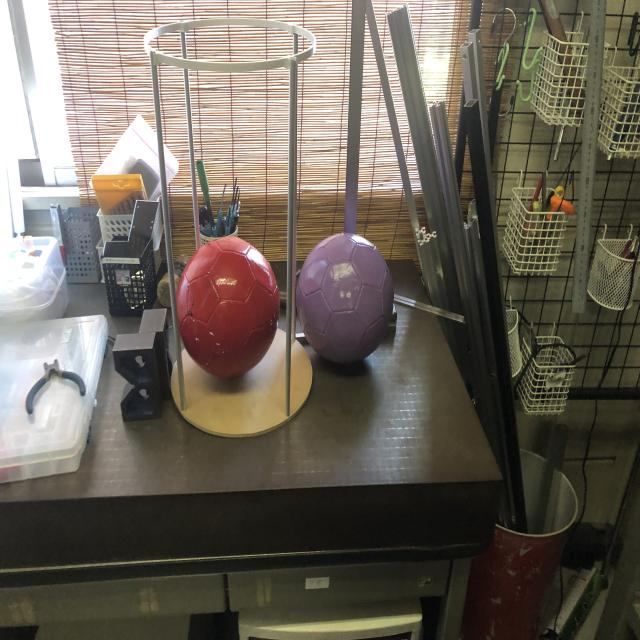purple_ball: (296, 235, 394, 368)
red_ball: (177, 238, 281, 382)
